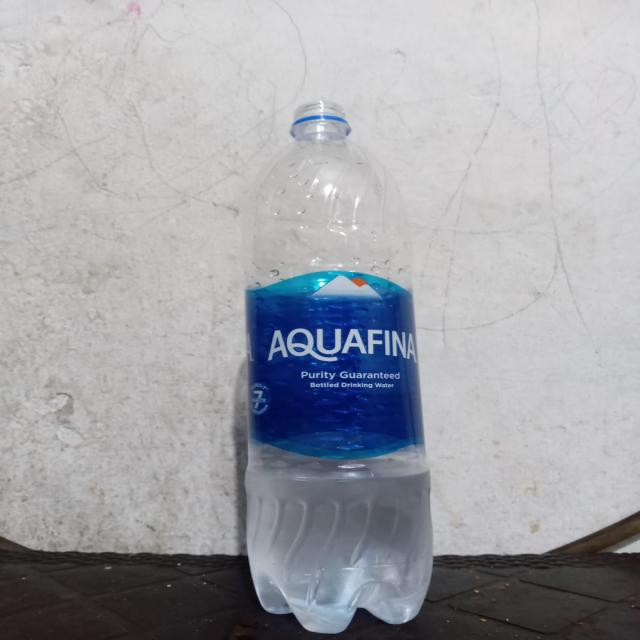bottle: (220, 88, 445, 640)
label: (233, 262, 438, 469)
